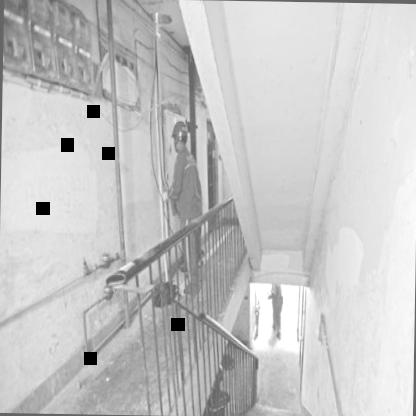helmet: (166, 115, 190, 152)
